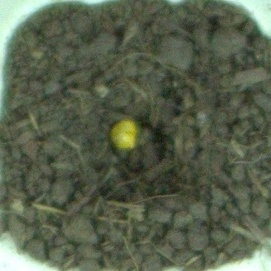chilli seed: (108, 119, 139, 150)
